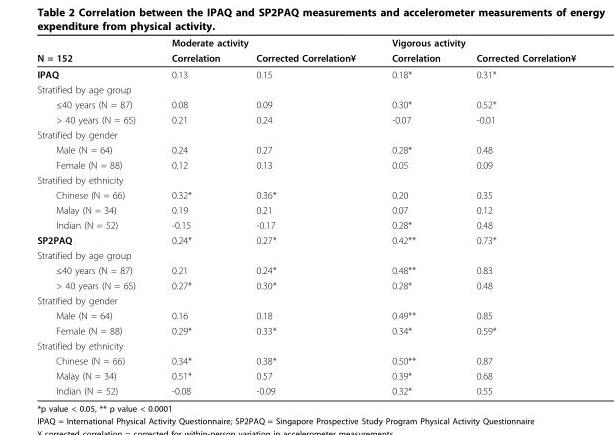table: (36, 36, 575, 396)
table column: (237, 36, 373, 396), (457, 36, 575, 396), (36, 36, 152, 396), (152, 36, 237, 396), (373, 36, 457, 396)
table column header: (36, 36, 575, 65)
table projected row header: (36, 81, 575, 96), (36, 126, 575, 141), (36, 172, 575, 187), (36, 247, 575, 262), (36, 292, 575, 307), (36, 337, 575, 352)
table row: (36, 49, 575, 65), (36, 65, 575, 81), (36, 141, 575, 157), (36, 81, 575, 96), (36, 96, 575, 111), (36, 111, 575, 126), (36, 126, 575, 141), (36, 157, 575, 172), (36, 172, 575, 187), (36, 187, 575, 202), (36, 202, 575, 217), (36, 217, 575, 232), (36, 232, 575, 247), (36, 247, 575, 262), (36, 262, 575, 277), (36, 277, 575, 292), (36, 292, 575, 307), (36, 307, 575, 322), (36, 322, 575, 337), (36, 337, 575, 352), (36, 352, 575, 367), (36, 367, 575, 382), (36, 382, 575, 396), (36, 36, 575, 49)
table spanning cell: (36, 36, 152, 65), (152, 36, 373, 49), (373, 36, 575, 49)
